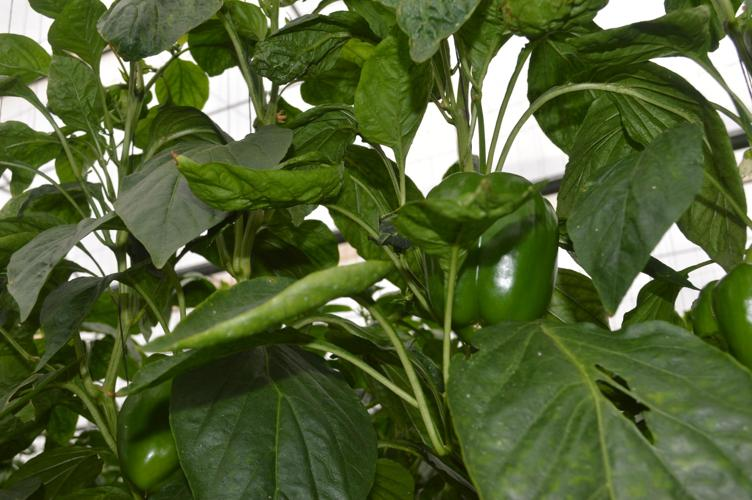BellPepper: (413, 170, 558, 329), (109, 377, 179, 485)
